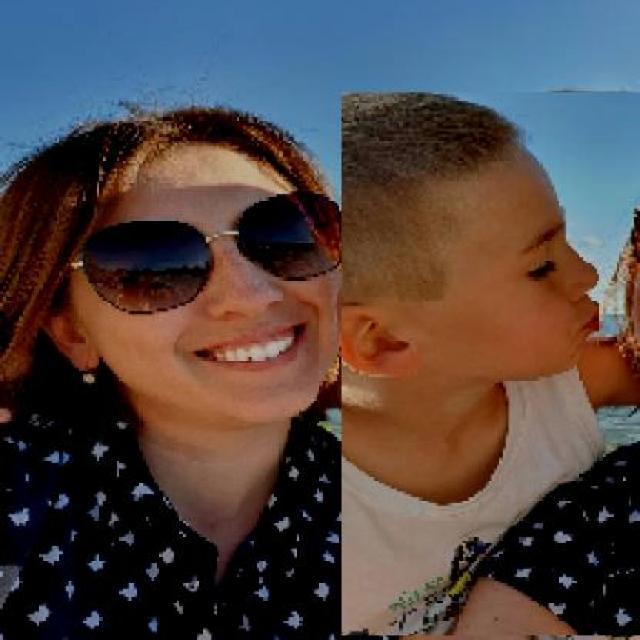child: (340, 92, 640, 637)
